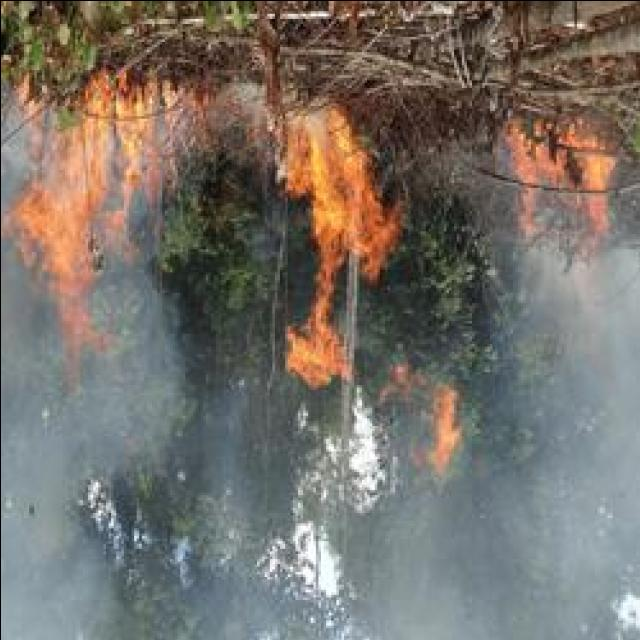fire: (15, 85, 168, 242), (293, 104, 377, 270), (518, 118, 608, 222)
smoke: (11, 232, 148, 470), (0, 453, 110, 640), (532, 210, 640, 369)
